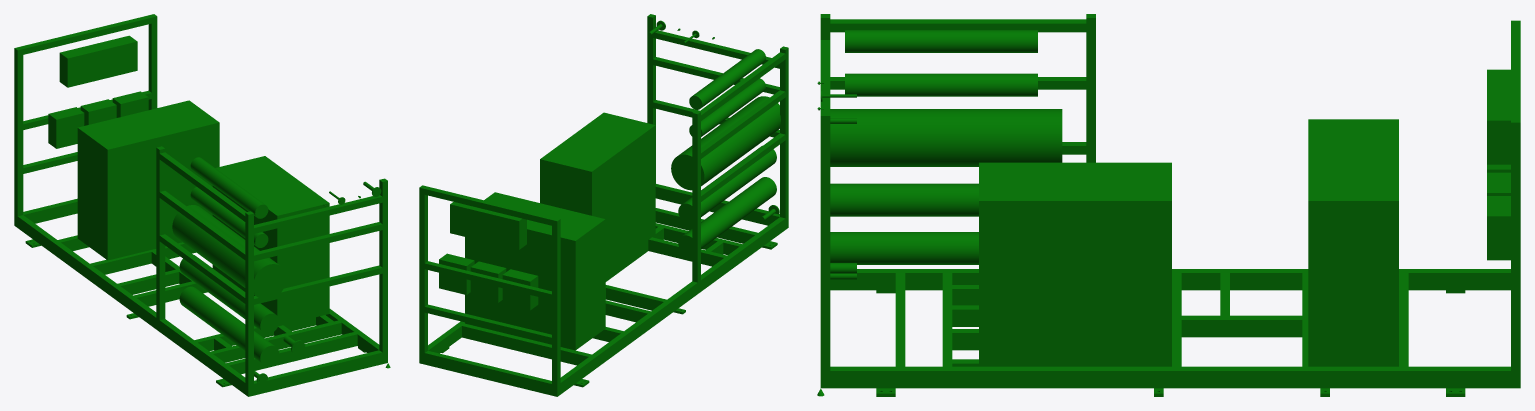
Rendered from Image-1710907665969-2280428158672_64-XX52.fbx.
The picture shows the model from 3 angles, left to right: view 1: azimuth 30°, elevation 25°; view 2: azimuth 150°, elevation 25°; view 3: azimuth 270°, elevation 25°; orthographic projection. The views are drawn at different scales.
Parts seen in each view (by area): view 1: BOX 1 of SUBEQUIPMENT /64-XX52/COMPR_2, BOX 1 of SUBEQUIPMENT /64-XX52/COMPR_1, BOX 15 of SUBEQUIPMENT /64-XX52/FRAME, CYLINDER 1 of SUBEQUIPMENT /64-XX52/LP-HEATER, BOX 1 of SUBEQUIPMENT /64-XX52/JUNCTION_BOX4, CYLINDER 1 of SUBEQUIPMENT /64-XX52/HP-HEATER_1, BOX 18 of SUBEQUIPMENT /64-XX52/FRAME, BOX 12 of SUBEQUIPMENT /64-XX52/FRAME, CYLINDER 1 of SUBEQUIPMENT /64-XX52/HP-HEATER_2, BOX 13 of SUBEQUIPMENT /64-XX52/FRAME, BOX 14 of SUBEQUIPMENT /64-XX52/FRAME, BOX 10 of SUBEQUIPMENT /64-XX52/FRAME (+23 smaller); view 2: BOX 1 of SUBEQUIPMENT /64-XX52/COMPR_1, BOX 1 of SUBEQUIPMENT /64-XX52/COMPR_2, BOX 15 of SUBEQUIPMENT /64-XX52/FRAME, CYLINDER 1 of SUBEQUIPMENT /64-XX52/LP-HEATER, BOX 1 of SUBEQUIPMENT /64-XX52/JUNCTION_BOX4, CYLINDER 1 of SUBEQUIPMENT /64-XX52/HP-HEATER_1, BOX 19 of SUBEQUIPMENT /64-XX52/FRAME, BOX 28 of SUBEQUIPMENT /64-XX52/FRAME, BOX 12 of SUBEQUIPMENT /64-XX52/FRAME, CYLINDER 1 of SUBEQUIPMENT /64-XX52/HP-HEATER_2, BOX 13 of SUBEQUIPMENT /64-XX52/FRAME, BOX 11 of SUBEQUIPMENT /64-XX52/FRAME (+24 smaller); view 3: BOX 1 of SUBEQUIPMENT /64-XX52/COMPR_1, BOX 1 of SUBEQUIPMENT /64-XX52/COMPR_2, CYLINDER 1 of SUBEQUIPMENT /64-XX52/LP-HEATER, BOX 16 of SUBEQUIPMENT /64-XX52/FRAME, BOX 15 of SUBEQUIPMENT /64-XX52/FRAME, CYLINDER 1 of SUBEQUIPMENT /64-XX52/HP-HEATER_2, CYLINDER 1 of SUBEQUIPMENT /64-XX52/HP-HEATER_1, BOX 17 of SUBEQUIPMENT /64-XX52/FRAME, CYLINDER 1 of SUBEQUIPMENT /64-XX52/MEMBR_SEP1, CYLINDER 1 of SUBEQUIPMENT /64-XX52/MEMBR_SEP2, BOX 1 of SUBEQUIPMENT /64-XX52/FRAME, BOX 10 of SUBEQUIPMENT /64-XX52/FRAME (+14 smaller).
Boxes of the visible parts, x1=… form: BOX 1 of SUBEQUIPMENT /64-XX52/COMPR_2: x1=77, y1=100, x2=219, y2=260; BOX 1 of SUBEQUIPMENT /64-XX52/COMPR_1: x1=212, y1=156, x2=329, y2=326; BOX 15 of SUBEQUIPMENT /64-XX52/FRAME: x1=14, y1=215, x2=253, y2=396; CYLINDER 1 of SUBEQUIPMENT /64-XX52/LP-HEATER: x1=172, y1=205, x2=286, y2=299; BOX 1 of SUBEQUIPMENT /64-XX52/JUNCTION_BOX4: x1=59, y1=35, x2=137, y2=87; CYLINDER 1 of SUBEQUIPMENT /64-XX52/HP-HEATER_1: x1=179, y1=286, x2=279, y2=365; BOX 18 of SUBEQUIPMENT /64-XX52/FRAME: x1=254, y1=350, x2=382, y2=395; BOX 12 of SUBEQUIPMENT /64-XX52/FRAME: x1=14, y1=47, x2=23, y2=227; CYLINDER 1 of SUBEQUIPMENT /64-XX52/HP-HEATER_2: x1=179, y1=255, x2=279, y2=333; BOX 13 of SUBEQUIPMENT /64-XX52/FRAME: x1=156, y1=146, x2=165, y2=320; BOX 14 of SUBEQUIPMENT /64-XX52/FRAME: x1=245, y1=211, x2=253, y2=385; BOX 10 of SUBEQUIPMENT /64-XX52/FRAME: x1=379, y1=178, x2=387, y2=352; BOX 1 of SUBEQUIPMENT /64-XX52/COMPR_1: x1=540, y1=112, x2=655, y2=270; BOX 1 of SUBEQUIPMENT /64-XX52/COMPR_2: x1=465, y1=192, x2=605, y2=350; BOX 15 of SUBEQUIPMENT /64-XX52/FRAME: x1=557, y1=216, x2=788, y2=395; CYLINDER 1 of SUBEQUIPMENT /64-XX52/LP-HEATER: x1=671, y1=96, x2=780, y2=190; BOX 1 of SUBEQUIPMENT /64-XX52/JUNCTION_BOX4: x1=450, y1=202, x2=526, y2=249; CYLINDER 1 of SUBEQUIPMENT /64-XX52/HP-HEATER_1: x1=678, y1=177, x2=776, y2=255; BOX 19 of SUBEQUIPMENT /64-XX52/FRAME: x1=424, y1=351, x2=551, y2=395; BOX 28 of SUBEQUIPMENT /64-XX52/FRAME: x1=462, y1=323, x2=591, y2=365; BOX 12 of SUBEQUIPMENT /64-XX52/FRAME: x1=552, y1=217, x2=560, y2=396; CYLINDER 1 of SUBEQUIPMENT /64-XX52/HP-HEATER_2: x1=678, y1=146, x2=776, y2=223; BOX 13 of SUBEQUIPMENT /64-XX52/FRAME: x1=692, y1=110, x2=700, y2=282; BOX 11 of SUBEQUIPMENT /64-XX52/FRAME: x1=419, y1=185, x2=427, y2=364; BOX 1 of SUBEQUIPMENT /64-XX52/COMPR_1: x1=979, y1=162, x2=1171, y2=366; BOX 1 of SUBEQUIPMENT /64-XX52/COMPR_2: x1=1308, y1=119, x2=1398, y2=366; CYLINDER 1 of SUBEQUIPMENT /64-XX52/LP-HEATER: x1=830, y1=109, x2=1062, y2=166; BOX 16 of SUBEQUIPMENT /64-XX52/FRAME: x1=820, y1=366, x2=1181, y2=388; BOX 15 of SUBEQUIPMENT /64-XX52/FRAME: x1=830, y1=269, x2=1510, y2=290; CYLINDER 1 of SUBEQUIPMENT /64-XX52/HP-HEATER_2: x1=830, y1=183, x2=978, y2=216; CYLINDER 1 of SUBEQUIPMENT /64-XX52/HP-HEATER_1: x1=830, y1=232, x2=978, y2=264; BOX 17 of SUBEQUIPMENT /64-XX52/FRAME: x1=1302, y1=366, x2=1520, y2=388; CYLINDER 1 of SUBEQUIPMENT /64-XX52/MEMBR_SEP1: x1=845, y1=73, x2=1037, y2=96; CYLINDER 1 of SUBEQUIPMENT /64-XX52/MEMBR_SEP2: x1=845, y1=30, x2=1037, y2=52; BOX 1 of SUBEQUIPMENT /64-XX52/FRAME: x1=830, y1=19, x2=1086, y2=32; BOX 10 of SUBEQUIPMENT /64-XX52/FRAME: x1=820, y1=112, x2=830, y2=370.
Size of the model in its own units: 2.21 by 5.83 by 2.55.
